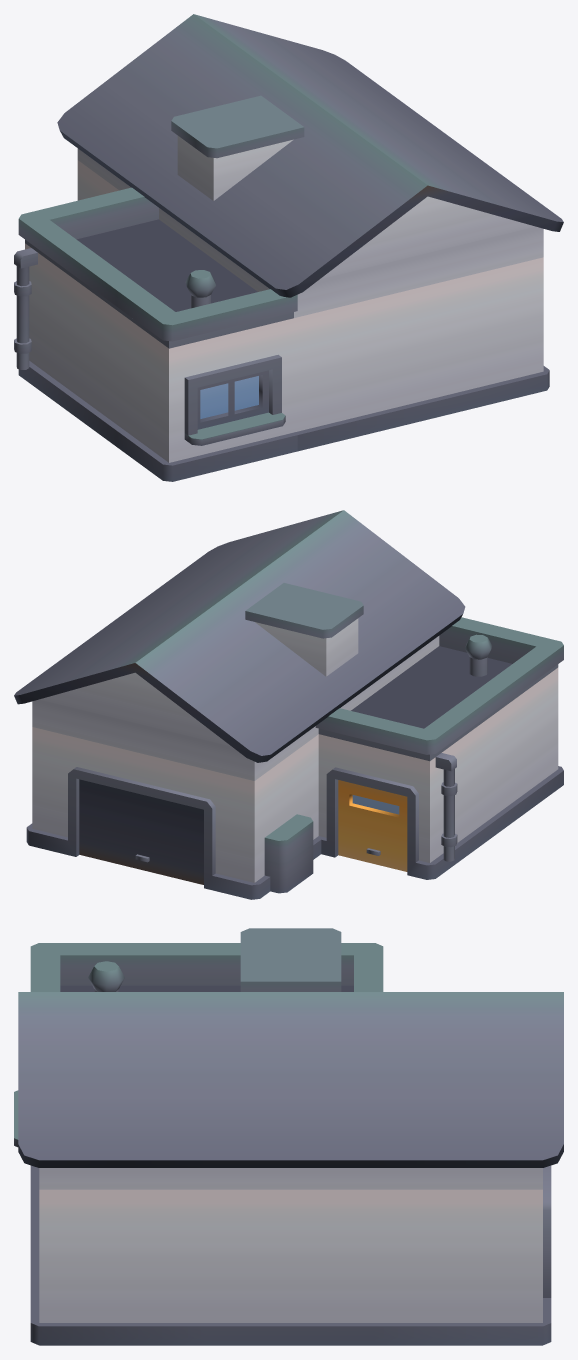
Rendered from ind_building_h.glb.
3 views of the same model, one above another, from view 1: azimuth 30°, elevation 25°; view 2: azimuth 150°, elevation 25°; view 3: azimuth 270°, elevation 25° (orthographic). The views are drawn at different scales.
Parts seen in each view (by area): view 1: building-h; view 2: building-h; view 3: building-h.
Boxes of the visible parts, x1,y1,x2,y2 form: building-h: [14, 14, 563, 481]; building-h: [14, 510, 563, 899]; building-h: [14, 928, 563, 1345].
Bounding box in the file's own units: 1.32 × 0.7335 × 1.31.
1 material, 1 textured.
